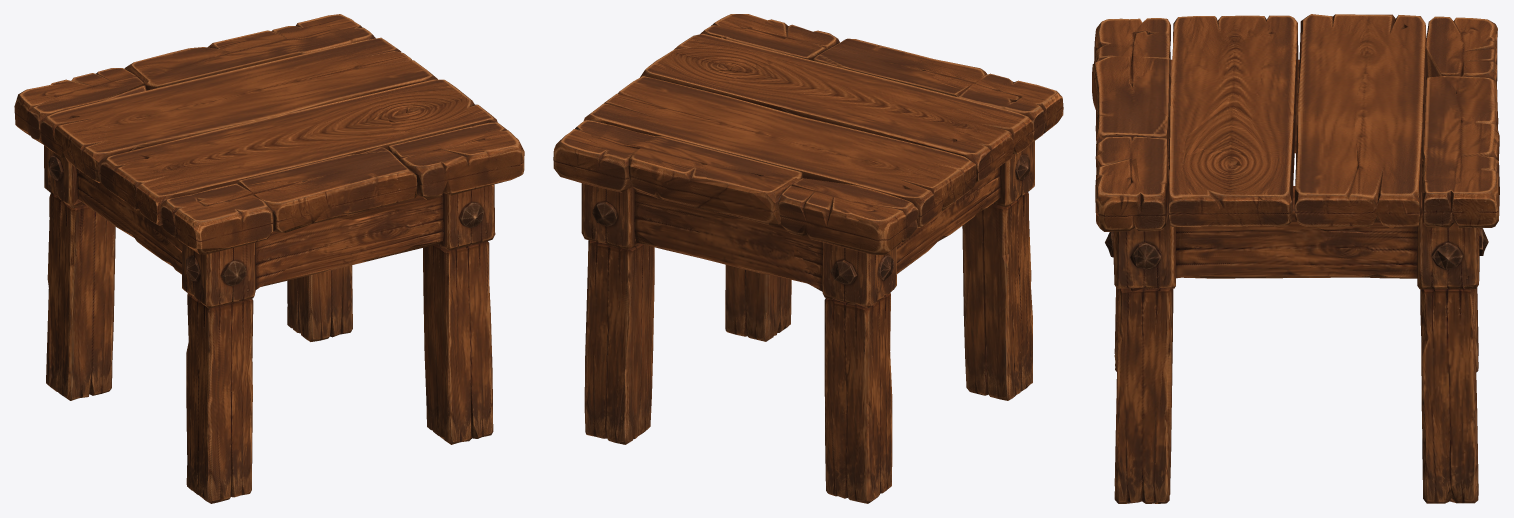
File: small-rustic-wooden-table.glb
3 renders of one model, left to right at view 1: azimuth 30°, elevation 25°; view 2: azimuth 150°, elevation 25°; view 3: azimuth 270°, elevation 25°, orthographic. The views are drawn at different scales.
Bounding box in the file's own units: 1.9 × 1.55 × 1.77.
1 material, 1 textured.
